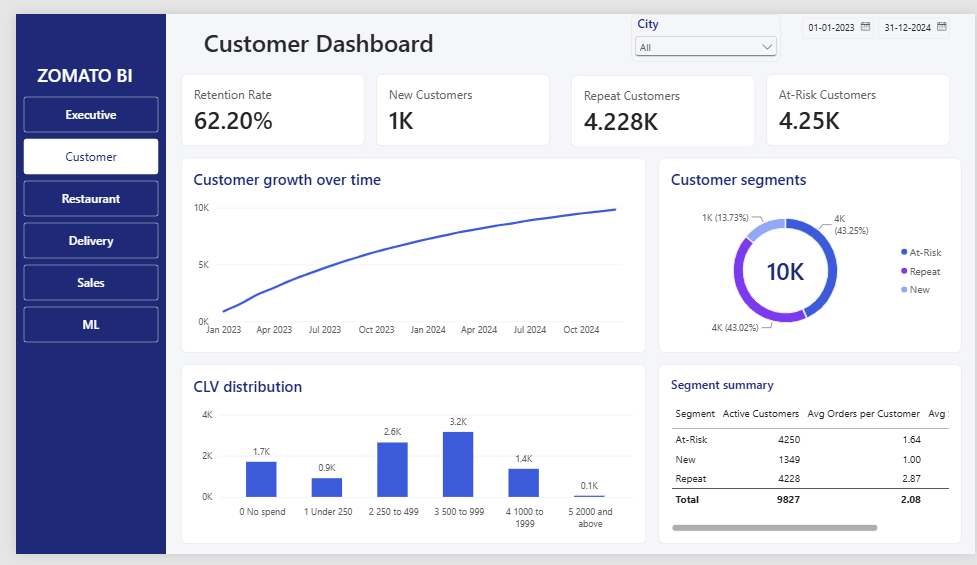

What the dashboard file says about the page in this screenshot:
{"tool":"powerbi","page":{"name":"Customer","canvas":[1280,720],"ordinal":1},"visuals":[{"type":"slicer","fields":{"Values":["DateTable.Date"]},"box":[1040,0,220,63.3],"z":0},{"type":"slicer","fields":{"Values":["cities.City"]},"box":[820,0,200,63.8],"z":1000},{"type":"shape","box":[0,0,200,720],"z":2000},{"type":"textbox","box":[8.3,45,183.3,73.3],"z":3000},{"type":"textbox","box":[241,16,328,46],"z":4000},{"type":"pageNavigator","box":[10,110,180,330],"z":5000},{"type":"cardVisual","fields":{"Data":["orders.New Customers"]},"box":[480,80,232,96],"z":6000},{"type":"cardVisual","fields":{"Data":["orders.At-Risk Customers"]},"box":[1000,80,245,96],"z":7000},{"type":"cardVisual","fields":{"Data":["orders.Retention Rate"]},"box":[220,80,245,96],"z":8000},{"type":"cardVisual","fields":{"Data":["orders.Repeat Customers"]},"box":[740,82,245,96],"z":9000},{"type":"lineChart","title":"Customer growth over time","fields":{"Category":["DateTable.MonthStart"],"Y":["orders.Cumulative Customers"]},"box":[220,192,620,260],"z":10000},{"type":"donutChart","title":"Customer segments","fields":{"Category":["customers.Segment"],"Y":["cities.Active Customers"]},"box":[856,192,404,260],"z":11000},{"type":"clusteredColumnChart","title":"CLV distribution","fields":{"Category":["customers.CLV Bucket"],"Y":["cities.Active Customers"]},"box":[220,466,620,240],"z":12000},{"type":"tableEx","title":"Segment summary","fields":{"Values":["customers.Segment","cities.Active Customers","orders.Avg Orders per Customer","orders.Avg Spend per Customer"]},"box":[856,466,404,240],"z":13000}]}

Visuals, with their boxes on the page's 1280x720 design canvas (x1, y1, x2, y2). These are canvas units, not pixel positions in the 977x565 screenshot, which may show the page scaled, cropped or inside an application window:
slicer - DateTable.Date: bbox(1040, 0, 1260, 63)
slicer - cities.City: bbox(820, 0, 1020, 64)
shape: bbox(0, 0, 200, 720)
textbox: bbox(8, 45, 192, 118)
textbox: bbox(241, 16, 569, 62)
pageNavigator: bbox(10, 110, 190, 440)
cardVisual - orders.New Customers: bbox(480, 80, 712, 176)
cardVisual - orders.At-Risk Customers: bbox(1000, 80, 1245, 176)
cardVisual - orders.Retention Rate: bbox(220, 80, 465, 176)
cardVisual - orders.Repeat Customers: bbox(740, 82, 985, 178)
"Customer growth over time" lineChart: bbox(220, 192, 840, 452)
"Customer segments" donutChart: bbox(856, 192, 1260, 452)
"CLV distribution" clusteredColumnChart: bbox(220, 466, 840, 706)
"Segment summary" tableEx: bbox(856, 466, 1260, 706)
